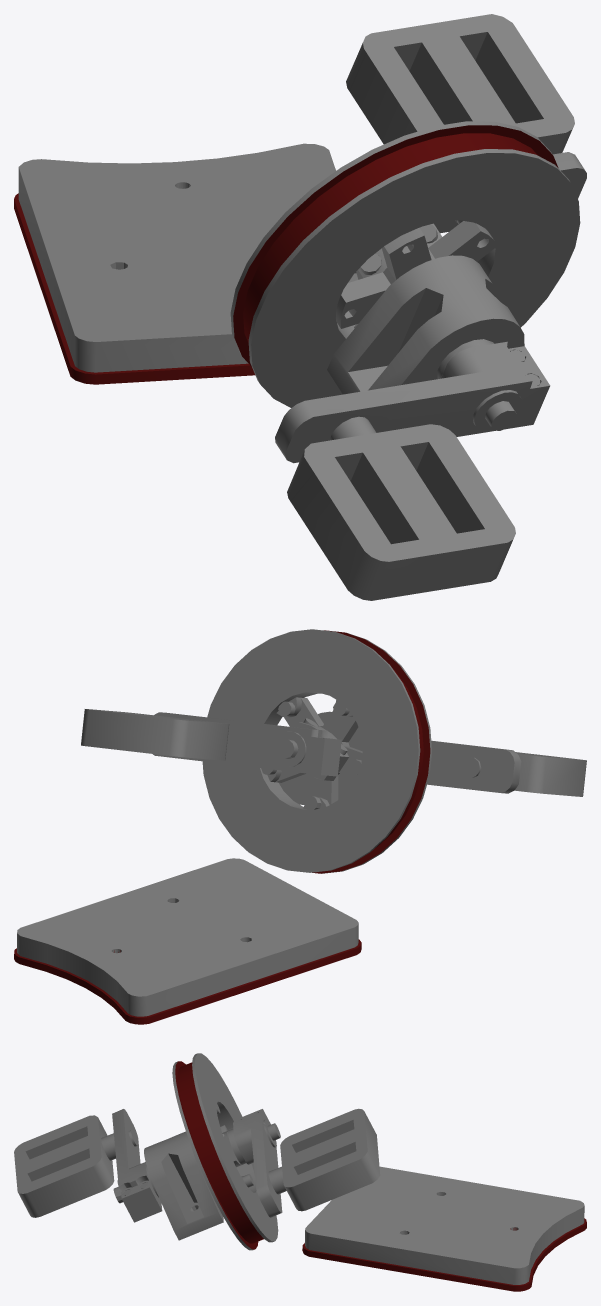
Rendered from Velo_infento_etape3.fbx.
3 renders of one model, top to bottom at view 1: azimuth 30°, elevation 25°; view 2: azimuth 150°, elevation 25°; view 3: azimuth 270°, elevation 25°, orthographic. The views are drawn at different scales.
Parts seen in each view (by area): view 1: Velo_infento.003; view 2: Velo_infento.003; view 3: Velo_infento.003.
Part boxes in pixels (x1,y1,x2,y2): Velo_infento.003: [14, 14, 586, 600]; Velo_infento.003: [14, 629, 586, 1024]; Velo_infento.003: [14, 1053, 586, 1291].
Size of the model in its own units: 0.2371 by 0.1587 by 0.4648.
